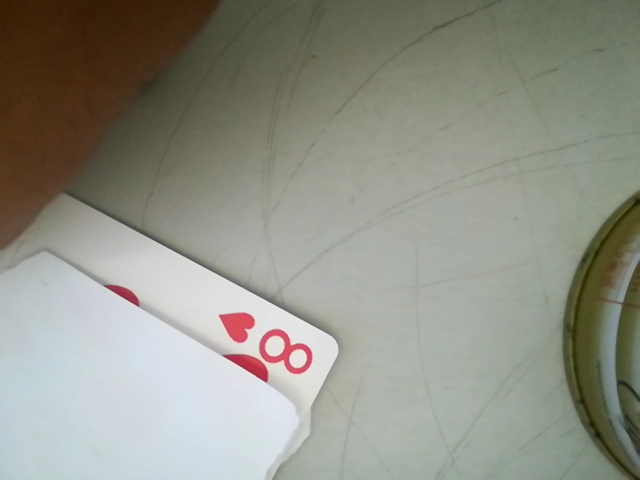hx 8: (210, 308, 328, 388)
